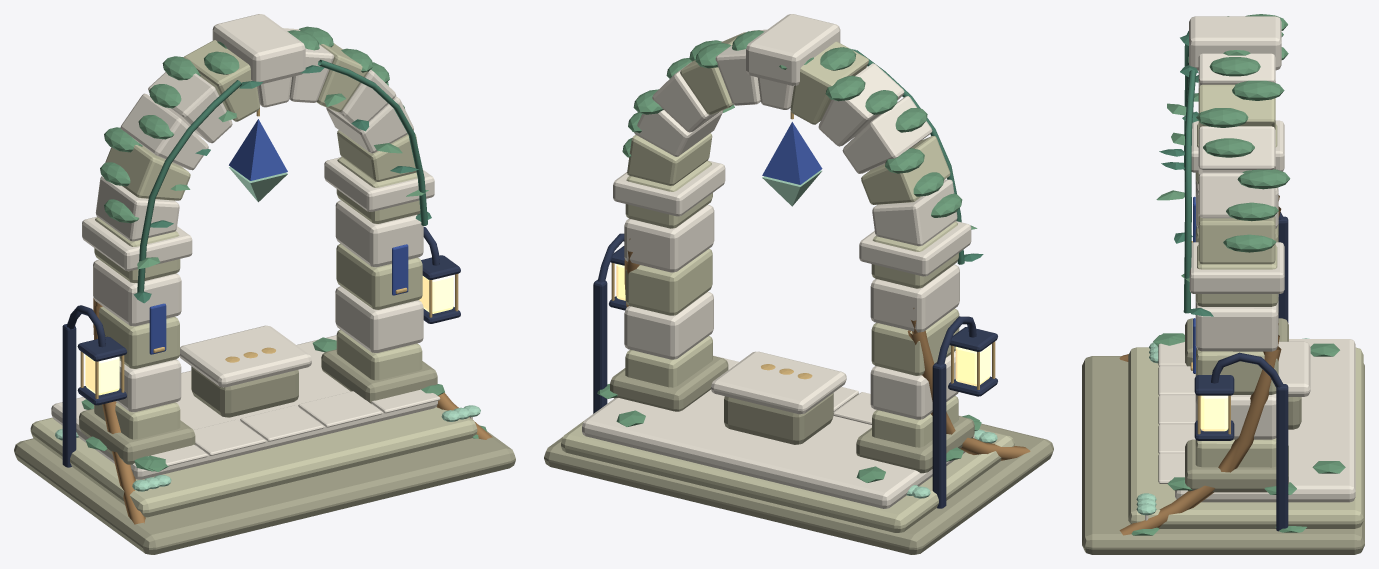
File: mossfall-half-arch-shrine.glb
3 renders of one model, left to right at view 1: azimuth 30°, elevation 25°; view 2: azimuth 150°, elevation 25°; view 3: azimuth 270°, elevation 25°, orthographic. The views are drawn at different scales.
Parts seen in each view (by area): view 1: mossfall-half-arch-shrine / cream, mossfall-half-arch-shrine / stone, mossfall-half-arch-shrine / shadowstone, mossfall-half-arch-shrine / moss, mossfall-half-arch-shrine / ink, mossfall-half-arch-shrine / leaf, mossfall-half-arch-shrine / cobalt, mossfall-half-arch-shrine / lantern, mossfall-half-arch-shrine / wood, mossfall-half-arch-shrine / mint, mossfall-half-arch-shrine / gold; view 2: mossfall-half-arch-shrine / cream, mossfall-half-arch-shrine / stone, mossfall-half-arch-shrine / shadowstone, mossfall-half-arch-shrine / moss, mossfall-half-arch-shrine / ink, mossfall-half-arch-shrine / cobalt, mossfall-half-arch-shrine / wood, mossfall-half-arch-shrine / lantern, mossfall-half-arch-shrine / mint, mossfall-half-arch-shrine / gold, mossfall-half-arch-shrine / leaf; view 3: mossfall-half-arch-shrine / cream, mossfall-half-arch-shrine / stone, mossfall-half-arch-shrine / shadowstone, mossfall-half-arch-shrine / moss, mossfall-half-arch-shrine / ink, mossfall-half-arch-shrine / wood, mossfall-half-arch-shrine / leaf, mossfall-half-arch-shrine / lantern, mossfall-half-arch-shrine / mint.
Part boxes in pixels (left/top/right/bottom): mossfall-half-arch-shrine / cream: left=51, top=14, right=472, bottom=479; mossfall-half-arch-shrine / stone: left=30, top=40, right=477, bottom=517; mossfall-half-arch-shrine / shadowstone: left=14, top=349, right=515, bottom=554; mossfall-half-arch-shrine / moss: left=81, top=26, right=486, bottom=471; mossfall-half-arch-shrine / ink: left=62, top=227, right=460, bottom=467; mossfall-half-arch-shrine / leaf: left=133, top=59, right=431, bottom=303; mossfall-half-arch-shrine / cobalt: left=149, top=119, right=408, bottom=354; mossfall-half-arch-shrine / lantern: left=85, top=275, right=453, bottom=395; mossfall-half-arch-shrine / wood: left=93, top=298, right=492, bottom=524; mossfall-half-arch-shrine / mint: left=55, top=167, right=480, bottom=491; mossfall-half-arch-shrine / gold: left=80, top=109, right=458, bottom=398; mossfall-half-arch-shrine / cream: left=582, top=14, right=974, bottom=508; mossfall-half-arch-shrine / stone: left=561, top=32, right=1014, bottom=532; mossfall-half-arch-shrine / shadowstone: left=544, top=356, right=1053, bottom=554; mossfall-half-arch-shrine / moss: left=597, top=30, right=981, bottom=482; mossfall-half-arch-shrine / ink: left=593, top=233, right=997, bottom=508; mossfall-half-arch-shrine / cobalt: left=762, top=122, right=822, bottom=184; mossfall-half-arch-shrine / wood: left=624, top=238, right=1030, bottom=460; mossfall-half-arch-shrine / lantern: left=616, top=264, right=990, bottom=386; mossfall-half-arch-shrine / mint: left=762, top=170, right=997, bottom=498; mossfall-half-arch-shrine / gold: left=611, top=112, right=995, bottom=389; mossfall-half-arch-shrine / leaf: left=852, top=49, right=983, bottom=264; mossfall-half-arch-shrine / cream: left=1145, top=16, right=1355, bottom=520; mossfall-half-arch-shrine / stone: left=1128, top=84, right=1363, bottom=528; mossfall-half-arch-shrine / shadowstone: left=1082, top=318, right=1364, bottom=554; mossfall-half-arch-shrine / moss: left=1131, top=14, right=1345, bottom=535; mossfall-half-arch-shrine / ink: left=1194, top=212, right=1288, bottom=531; mossfall-half-arch-shrine / wood: left=1119, top=195, right=1281, bottom=535; mossfall-half-arch-shrine / leaf: left=1159, top=31, right=1213, bottom=316; mossfall-half-arch-shrine / lantern: left=1200, top=395, right=1228, bottom=431; mossfall-half-arch-shrine / mint: left=1136, top=338, right=1309, bottom=515.
Bounding box in the file's own units: 3.9 × 4.28 × 2.5.
